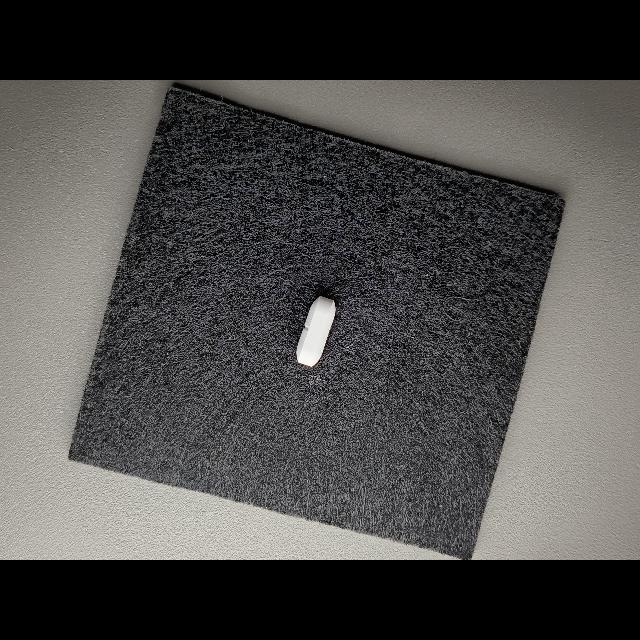Intact Pill: (296, 296, 336, 367)
